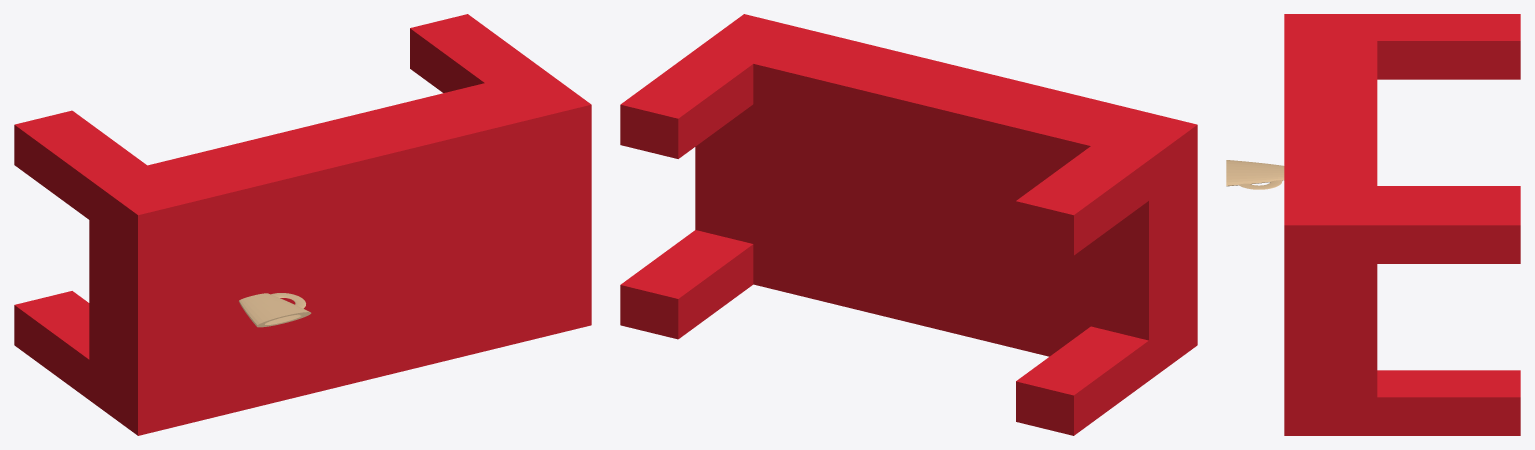
File: tinker.obj
3 renders of one model, left to right at view 1: azimuth 30°, elevation 25°; view 2: azimuth 150°, elevation 25°; view 3: azimuth 270°, elevation 25°, orthographic. The views are drawn at different scales.
Visible parts, largest first — view 1: group_0_15277357, group_0_14860437; view 2: group_0_15277357; view 3: group_0_15277357, group_0_14860437.
Boxes of the visible parts, x1,y1,x2,y2 form: group_0_15277357: [14, 14, 591, 435]; group_0_14860437: [239, 293, 311, 327]; group_0_15277357: [620, 14, 1197, 435]; group_0_15277357: [1284, 14, 1520, 435]; group_0_14860437: [1226, 160, 1284, 189].
Size of the model in its own units: 129 by 60 by 76.
